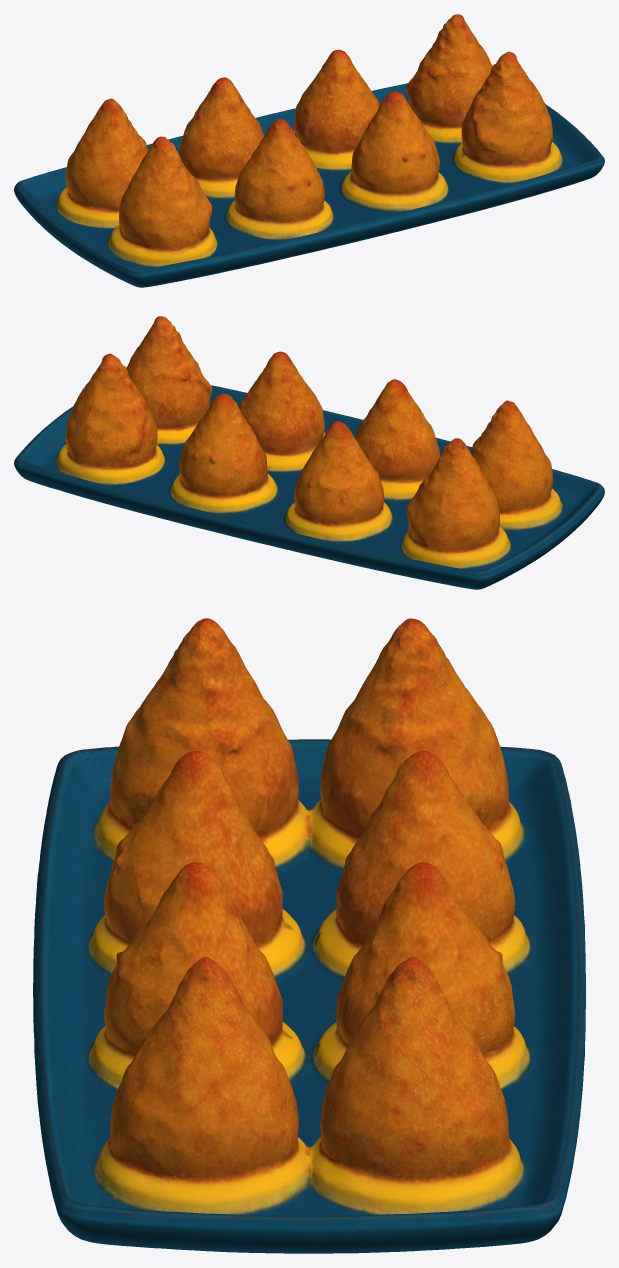
Rendered from bandeja-v2.glb.
3 renders of one model, top to bottom at view 1: azimuth 30°, elevation 25°; view 2: azimuth 150°, elevation 25°; view 3: azimuth 270°, elevation 25°, orthographic. The views are drawn at different scales.
Bounding box in the file's own units: 1.9 × 0.4313 × 0.9156.
1 material, 1 textured.
